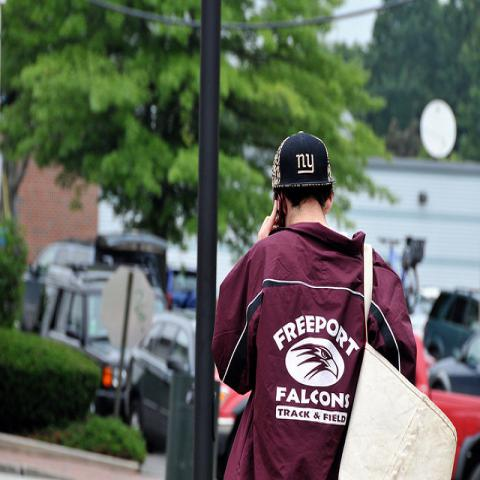car: (118, 305, 253, 479), (29, 263, 120, 414), (413, 334, 479, 479), (422, 290, 479, 363), (426, 326, 479, 396), (29, 238, 96, 280), (16, 266, 45, 331), (166, 268, 197, 310)
truck: (39, 261, 135, 428)
